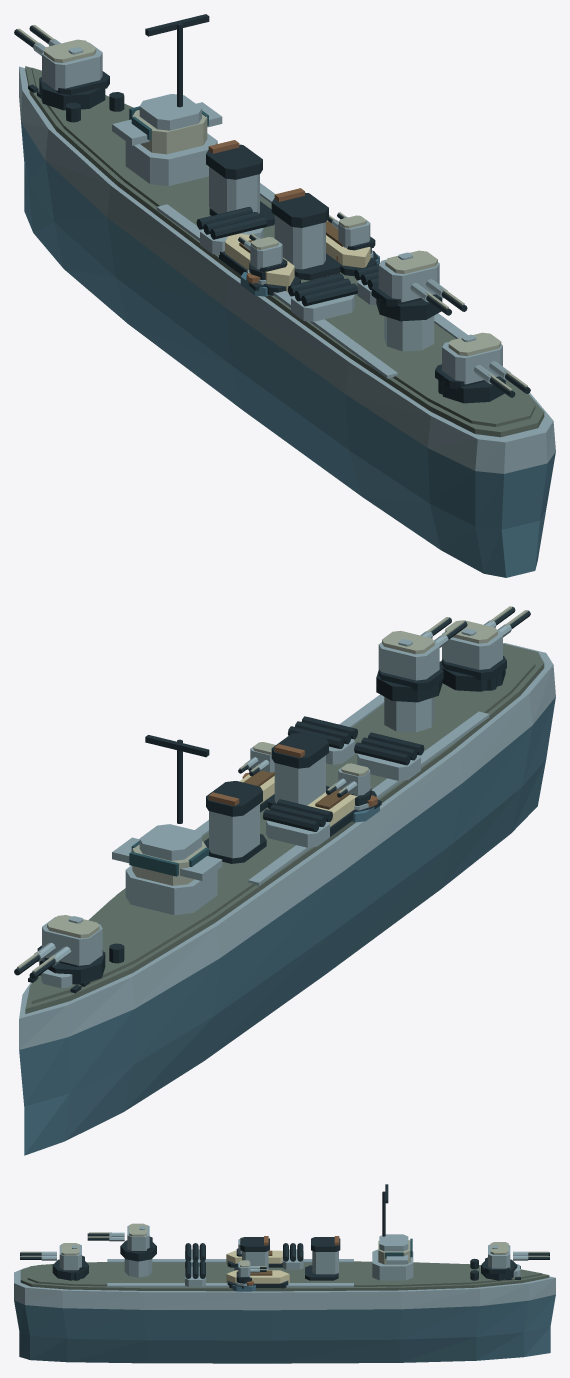
File: historic-tashkent.glb
3 renders of one model, top to bottom at view 1: azimuth 30°, elevation 25°; view 2: azimuth 150°, elevation 25°; view 3: azimuth 270°, elevation 25°, orthographic. The views are drawn at different scales.
Visible parts, largest first — view 1: historic-tashkent-historic-tashkent-geometry, historic-tashkent-part_bridge.048-geometry, historic-tashkent-turret_main_0.038-geometry, historic-tashkent-turret_main_1.037-geometry, historic-tashkent-turret_main_2.033-geometry, historic-tashkent-historic_funnel_1.025-geometry, historic-tashkent-historic_funnel_0.049-geometry, historic-tashkent-torpedo_bank_0.011-geometry, historic-tashkent-torpedo_bank_2.004-geometry, historic-tashkent-turret_aa_aa-port.050-geometry, historic-tashkent-turret_aa_aa-starboard.048-geometry, historic-tashkent-torpedo_bank_1.010-geometry; view 2: historic-tashkent-historic-tashkent-geometry, historic-tashkent-part_bridge.048-geometry, historic-tashkent-turret_main_1.037-geometry, historic-tashkent-turret_main_2.033-geometry, historic-tashkent-historic_funnel_0.049-geometry, historic-tashkent-turret_main_0.038-geometry, historic-tashkent-historic_funnel_1.025-geometry, historic-tashkent-torpedo_bank_2.004-geometry, historic-tashkent-torpedo_bank_0.011-geometry, historic-tashkent-torpedo_bank_1.010-geometry, historic-tashkent-turret_aa_aa-port.050-geometry, historic-tashkent-turret_aa_aa-starboard.048-geometry; view 3: historic-tashkent-historic-tashkent-geometry, historic-tashkent-part_bridge.048-geometry, historic-tashkent-turret_main_1.037-geometry, historic-tashkent-turret_main_0.038-geometry, historic-tashkent-turret_main_2.033-geometry, historic-tashkent-historic_funnel_0.049-geometry, historic-tashkent-historic_funnel_1.025-geometry, historic-tashkent-torpedo_bank_2.004-geometry, historic-tashkent-torpedo_bank_1.010-geometry, historic-tashkent-turret_aa_aa-starboard.048-geometry, historic-tashkent-torpedo_bank_0.011-geometry.
Part boxes in pixels (x1=…): historic-tashkent-historic-tashkent-geometry: x1=19, y1=66, x2=555, y2=577; historic-tashkent-part_bridge.048-geometry: x1=112, y1=14, x2=222, y2=186; historic-tashkent-turret_main_0.038-geometry: x1=14, y1=25, x2=109, y2=110; historic-tashkent-turret_main_1.037-geometry: x1=371, y1=250, x2=467, y2=321; historic-tashkent-turret_main_2.033-geometry: x1=435, y1=332, x2=530, y2=403; historic-tashkent-historic_funnel_1.025-geometry: x1=271, y1=188, x2=340, y2=280; historic-tashkent-historic_funnel_0.049-geometry: x1=206, y1=140, x2=274, y2=226; historic-tashkent-torpedo_bank_0.011-geometry: x1=287, y1=273, x2=357, y2=321; historic-tashkent-torpedo_bank_2.004-geometry: x1=196, y1=207, x2=266, y2=254; historic-tashkent-turret_aa_aa-port.050-geometry: x1=238, y1=233, x2=287, y2=280; historic-tashkent-turret_aa_aa-starboard.048-geometry: x1=327, y1=212, x2=375, y2=253; historic-tashkent-torpedo_bank_1.010-geometry: x1=354, y1=264, x2=378, y2=305; historic-tashkent-historic-tashkent-geometry: x1=19, y1=643, x2=555, y2=1155; historic-tashkent-part_bridge.048-geometry: x1=112, y1=735, x2=222, y2=915; historic-tashkent-turret_main_1.037-geometry: x1=376, y1=617, x2=467, y2=702; historic-tashkent-turret_main_2.033-geometry: x1=440, y1=606, x2=530, y2=691; historic-tashkent-historic_funnel_0.049-geometry: x1=204, y1=781, x2=266, y2=863; historic-tashkent-turret_main_0.038-geometry: x1=14, y1=915, x2=105, y2=984; historic-tashkent-historic_funnel_1.025-geometry: x1=267, y1=732, x2=329, y2=808; historic-tashkent-torpedo_bank_2.004-geometry: x1=263, y1=799, x2=332, y2=847; historic-tashkent-torpedo_bank_0.011-geometry: x1=354, y1=732, x2=424, y2=780; historic-tashkent-torpedo_bank_1.010-geometry: x1=287, y1=716, x2=357, y2=764; historic-tashkent-turret_aa_aa-port.050-geometry: x1=326, y1=763, x2=371, y2=805; historic-tashkent-turret_aa_aa-starboard.048-geometry: x1=238, y1=742, x2=275, y2=776; historic-tashkent-historic-tashkent-geometry: x1=14, y1=1250, x2=555, y2=1363; historic-tashkent-part_bridge.048-geometry: x1=372, y1=1184, x2=413, y2=1280; historic-tashkent-turret_main_1.037-geometry: x1=87, y1=1223, x2=156, y2=1261; historic-tashkent-turret_main_0.038-geometry: x1=481, y1=1242, x2=549, y2=1280; historic-tashkent-turret_main_2.033-geometry: x1=20, y1=1243, x2=88, y2=1280; historic-tashkent-historic_funnel_0.049-geometry: x1=305, y1=1236, x2=340, y2=1280; historic-tashkent-historic_funnel_1.025-geometry: x1=234, y1=1236, x2=269, y2=1270; historic-tashkent-torpedo_bank_2.004-geometry: x1=282, y1=1243, x2=303, y2=1269; historic-tashkent-torpedo_bank_1.010-geometry: x1=185, y1=1260, x2=205, y2=1286; historic-tashkent-turret_aa_aa-starboard.048-geometry: x1=236, y1=1260, x2=266, y2=1283; historic-tashkent-torpedo_bank_0.011-geometry: x1=185, y1=1243, x2=205, y2=1267.
Bounding box in the file's own units: 0.596 × 1.35 × 4.11.
